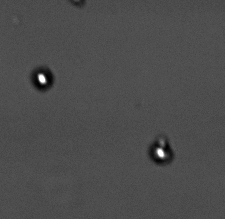Living Cell: (149, 138, 175, 164), (30, 66, 54, 92)
